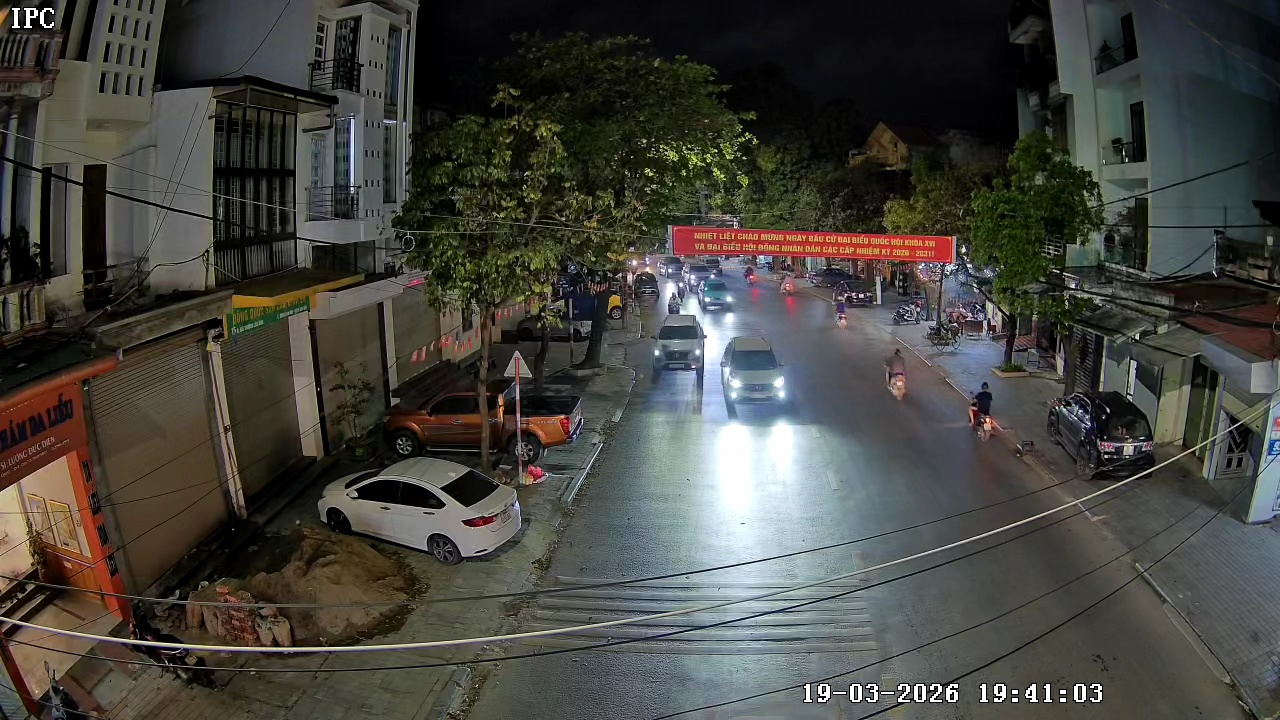car: (319, 455, 527, 561), (720, 332, 791, 408), (651, 314, 707, 375), (697, 278, 735, 315)
motorbike: (964, 377, 1000, 445), (883, 344, 910, 401)
